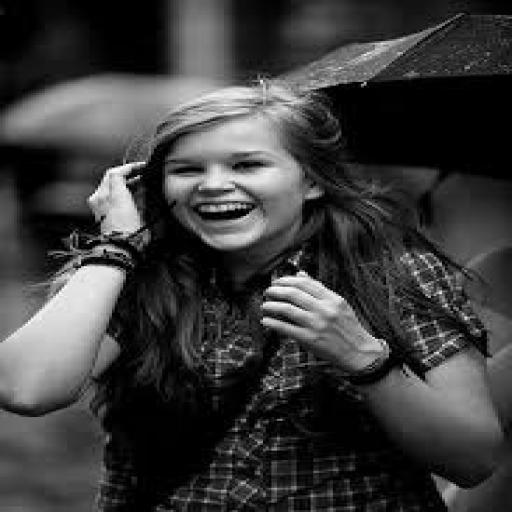laughing: (0, 72, 506, 510)
